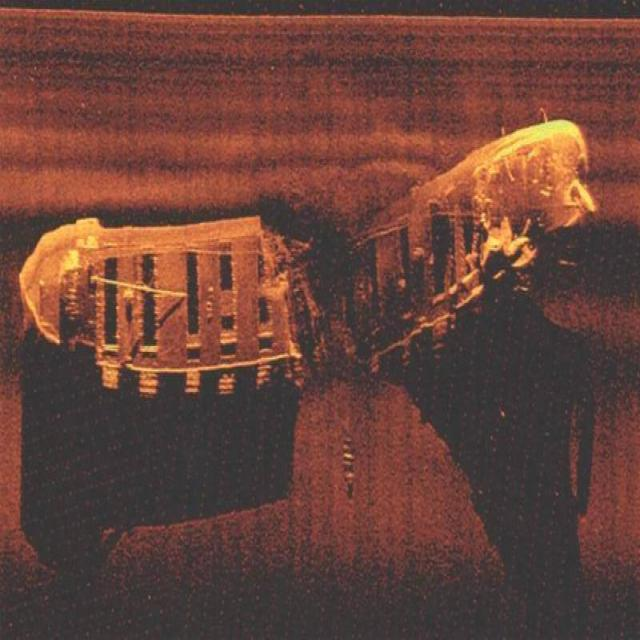ship: (16, 114, 595, 400)
